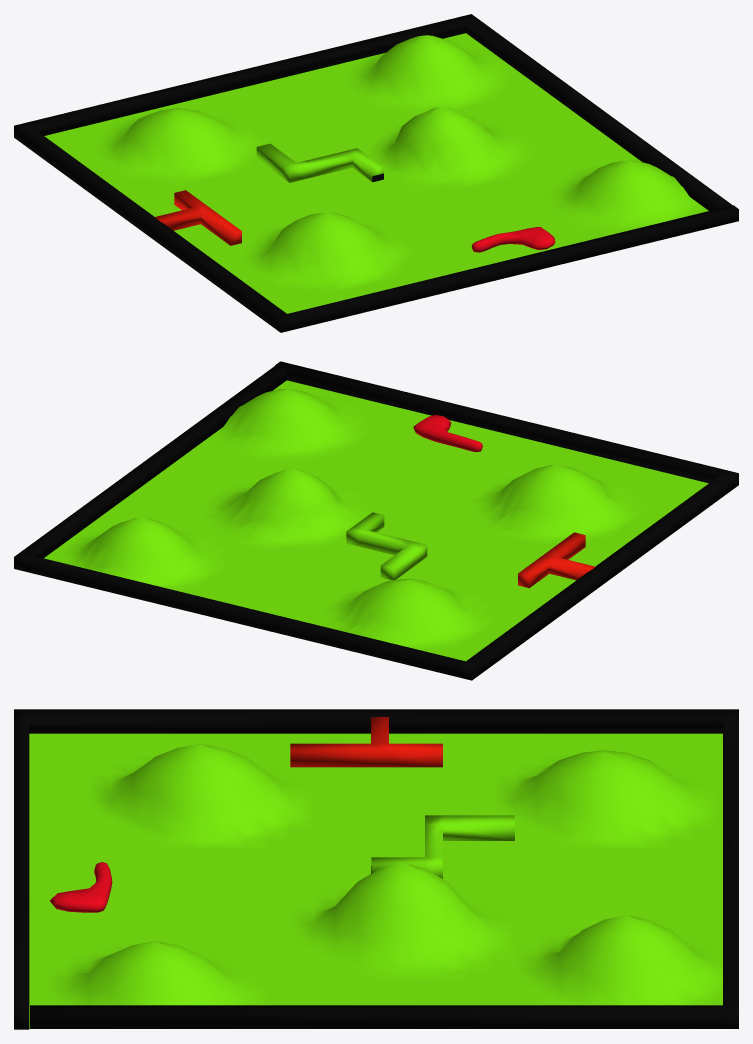
The model's file is escenario.fbx.
The picture shows the model from 3 angles, top to bottom: view 1: azimuth 30°, elevation 25°; view 2: azimuth 150°, elevation 25°; view 3: azimuth 270°, elevation 25°; orthographic projection. The views are drawn at different scales.
Visible parts, largest first — view 1: Cube, Cube.001, Cube.002, Cube.003; view 2: Cube, Cube.001, Cube.002, Cube.003; view 3: Cube, Cube.001, Cube.002, Cube.003.
Part boxes in pixels (left/top/right/bottom): Cube: left=44, top=33, right=708, bottom=313; Cube.001: left=14, top=14, right=738, bottom=332; Cube.002: left=154, top=190, right=241, bottom=245; Cube.003: left=471, top=227, right=555, bottom=252; Cube: left=44, top=380, right=708, bottom=661; Cube.001: left=14, top=361, right=738, bottom=680; Cube.002: left=518, top=532, right=595, bottom=588; Cube.003: left=413, top=415, right=482, bottom=451; Cube: left=29, top=733, right=722, bottom=1028; Cube.001: left=14, top=709, right=738, bottom=1029; Cube.002: left=290, top=717, right=442, bottom=767; Cube.003: left=50, top=862, right=112, bottom=912.
Bounding box in the file's own units: 39561 × 4445 × 39907.
